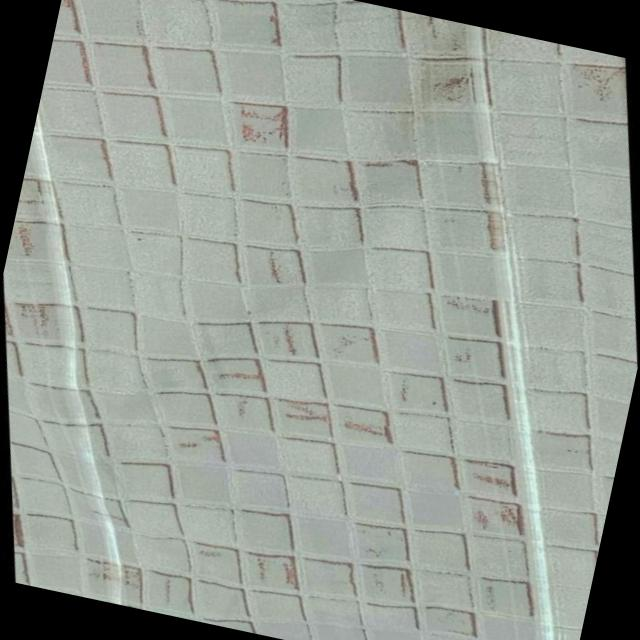selvet: (327, 21, 640, 640), (0, 297, 199, 609), (0, 0, 150, 310)
